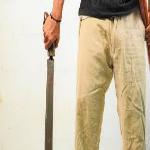Golok: (39, 7, 64, 150)
